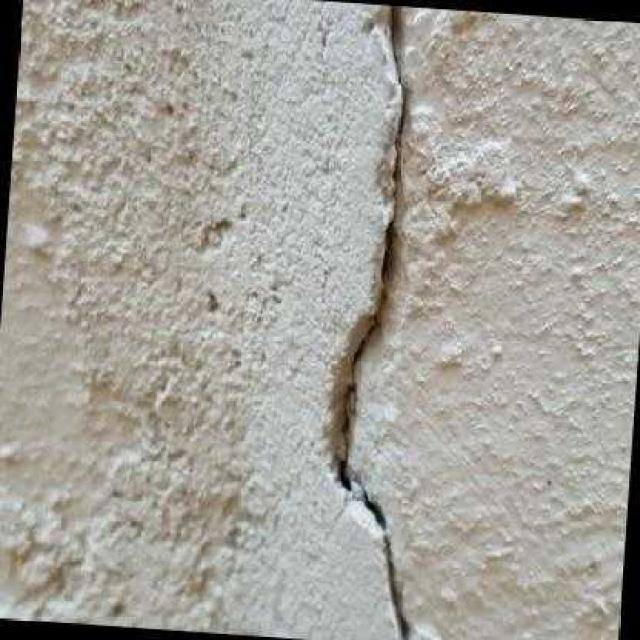D00: (339, 4, 408, 640)
